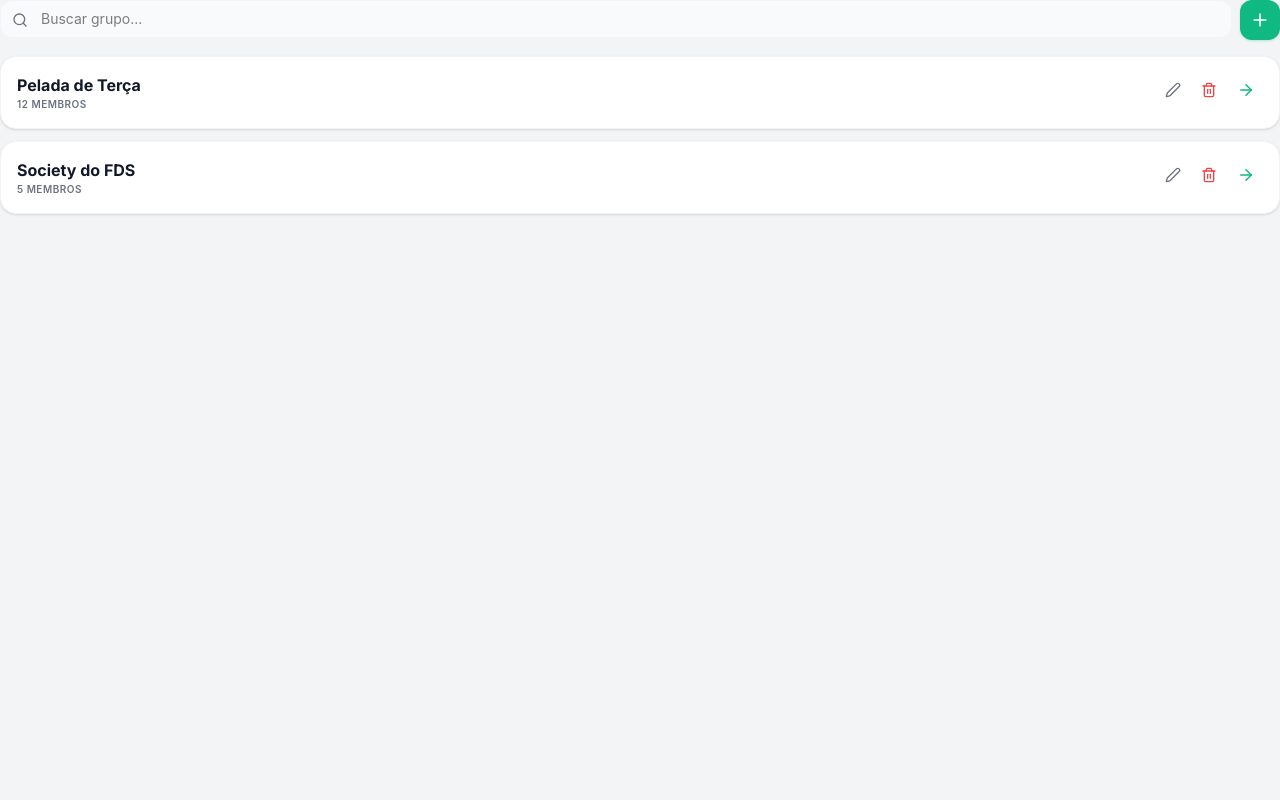
Test: GroupsTab Component › opens create modal when clicking the add button
Expected: the heading "Pelada de Terça" is shown, left=17, top=73, right=141, bottom=97
Note: The first button in the document is the "Add" button next to search
Click the 1st button: [1260, 20] box left=1240, top=0, right=1279, bottom=40
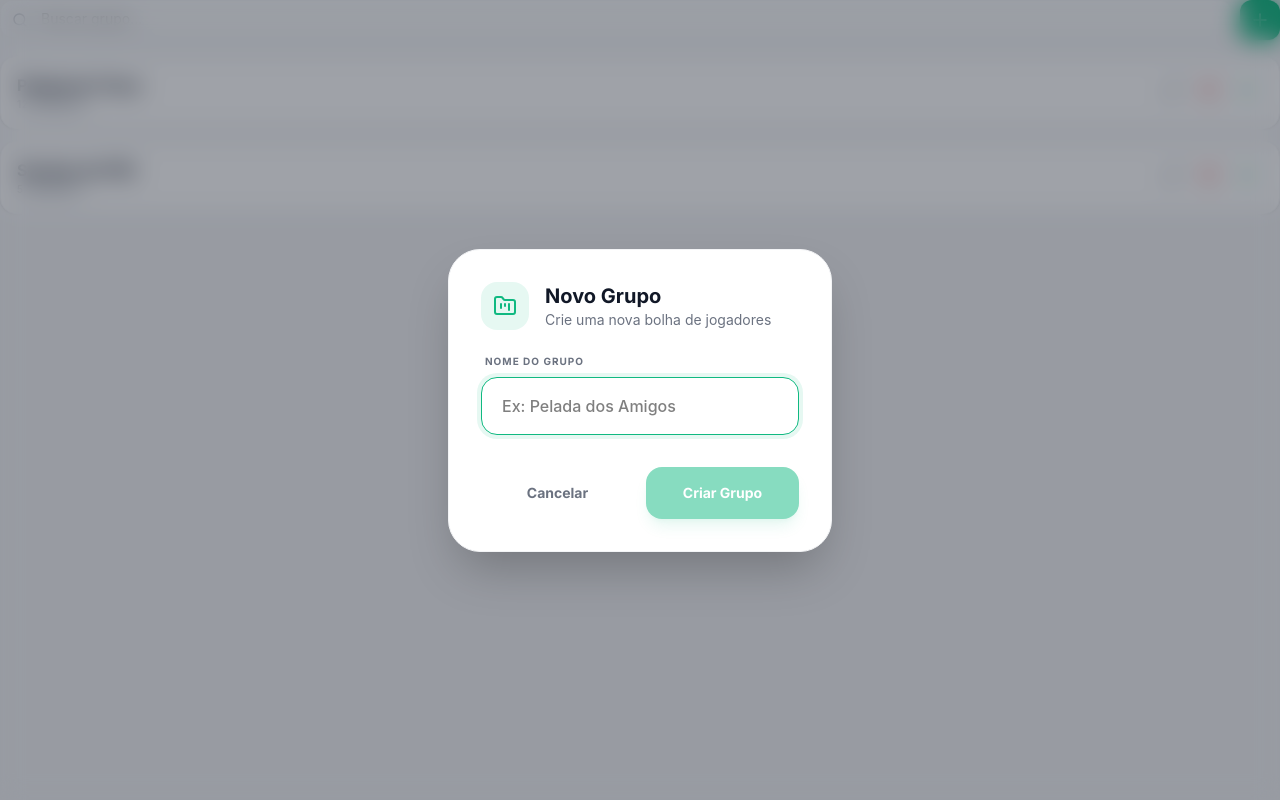
Expected: the heading "Novo Grupo" is shown, left=545, top=284, right=661, bottom=308
Expected: the field with placeholder "Ex: Pelada dos Amigos" is shown, left=481, top=376, right=799, bottom=434
